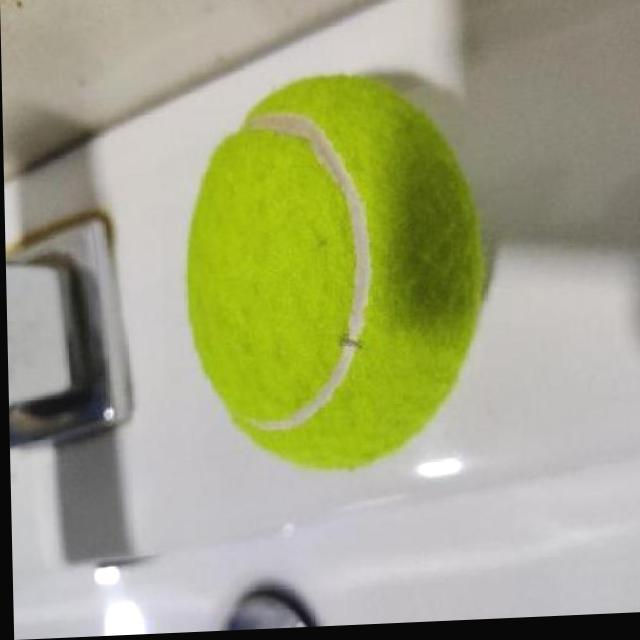-: (165, 46, 510, 506)
